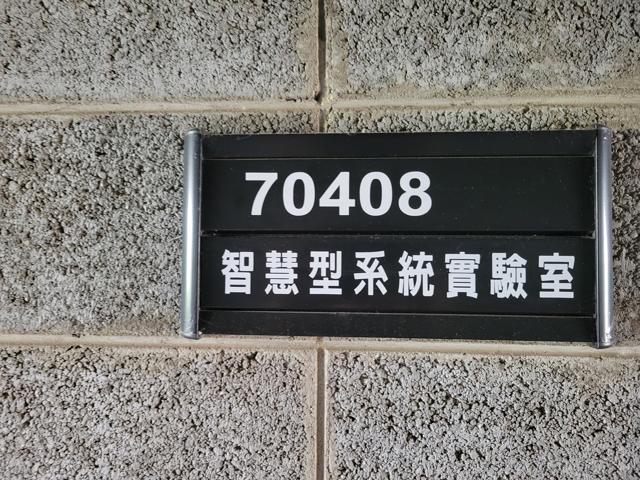doorplate: (171, 121, 626, 356)
